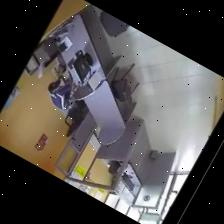person: (48, 75, 72, 108)
